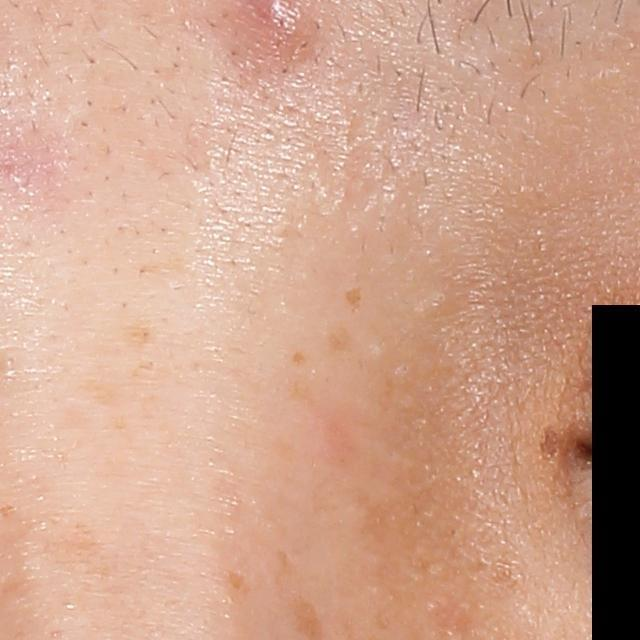melasma: (118, 312, 160, 348), (341, 284, 363, 317), (223, 570, 250, 596), (291, 350, 308, 367)
